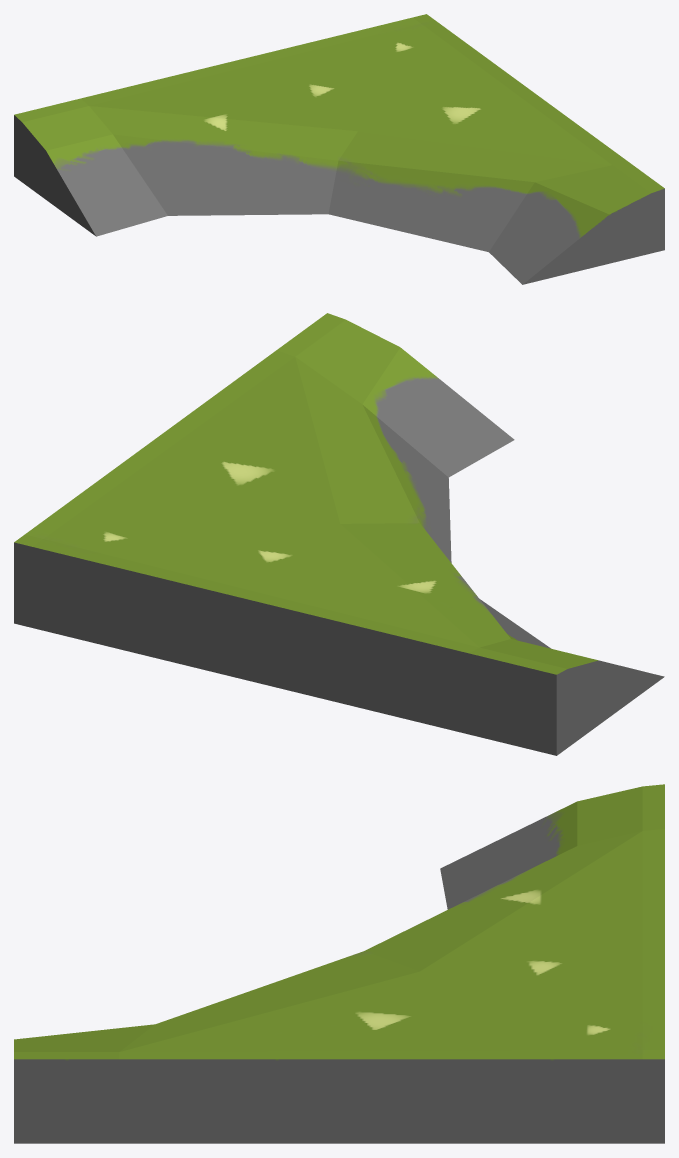
Rendered from mountainInteriorCorner_TOP.fbx.
3 views of the same model, one above another, from view 1: azimuth 30°, elevation 25°; view 2: azimuth 150°, elevation 25°; view 3: azimuth 270°, elevation 25° (orthographic). The views are drawn at different scales.
Parts seen in each view (by area): view 1: MountainInteriorCorner_TOP; view 2: MountainInteriorCorner_TOP; view 3: MountainInteriorCorner_TOP.
Boxes of the visible parts, bbox=[...] form: MountainInteriorCorner_TOP: bbox=[14, 14, 664, 284]; MountainInteriorCorner_TOP: bbox=[14, 313, 664, 755]; MountainInteriorCorner_TOP: bbox=[14, 784, 664, 1143].
Size of the model in its own units: 200 by 28.57 by 200.
1 material, 1 textured.
